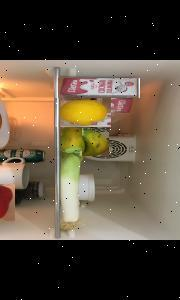Limón: (54, 98, 110, 127)
Nata: (56, 78, 138, 98)
Pimiento: (0, 184, 30, 222)
Plátano: (81, 128, 108, 156)
Puerro: (60, 154, 86, 232)
